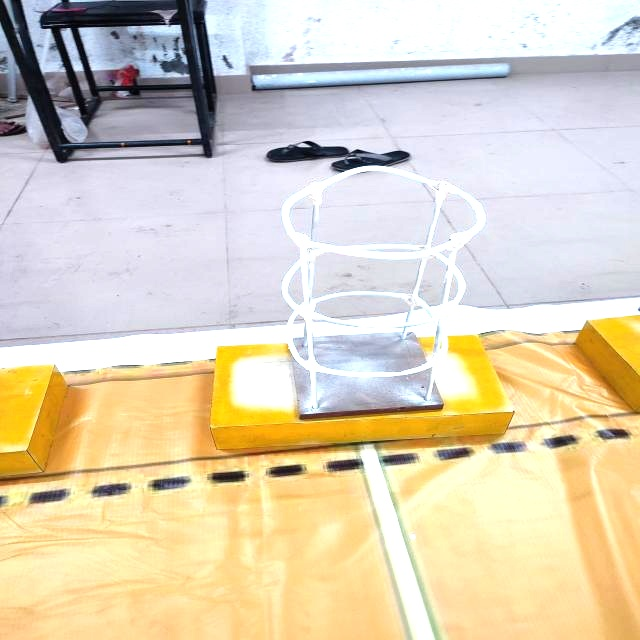silo: (258, 146, 508, 448)
